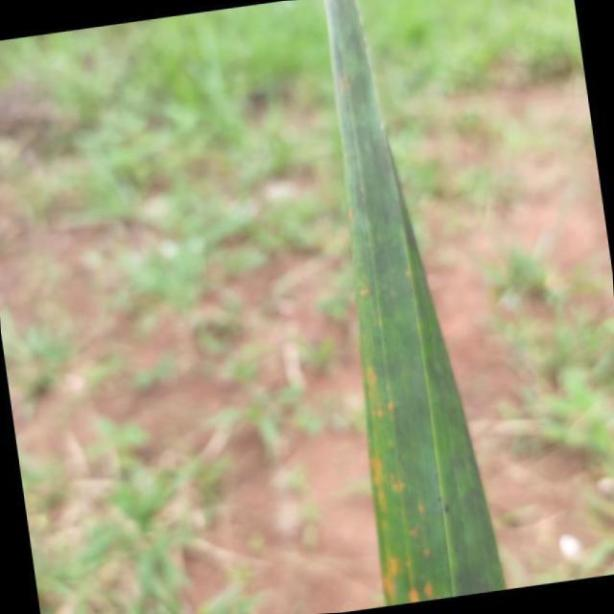Kalium: (326, 0, 518, 608)
